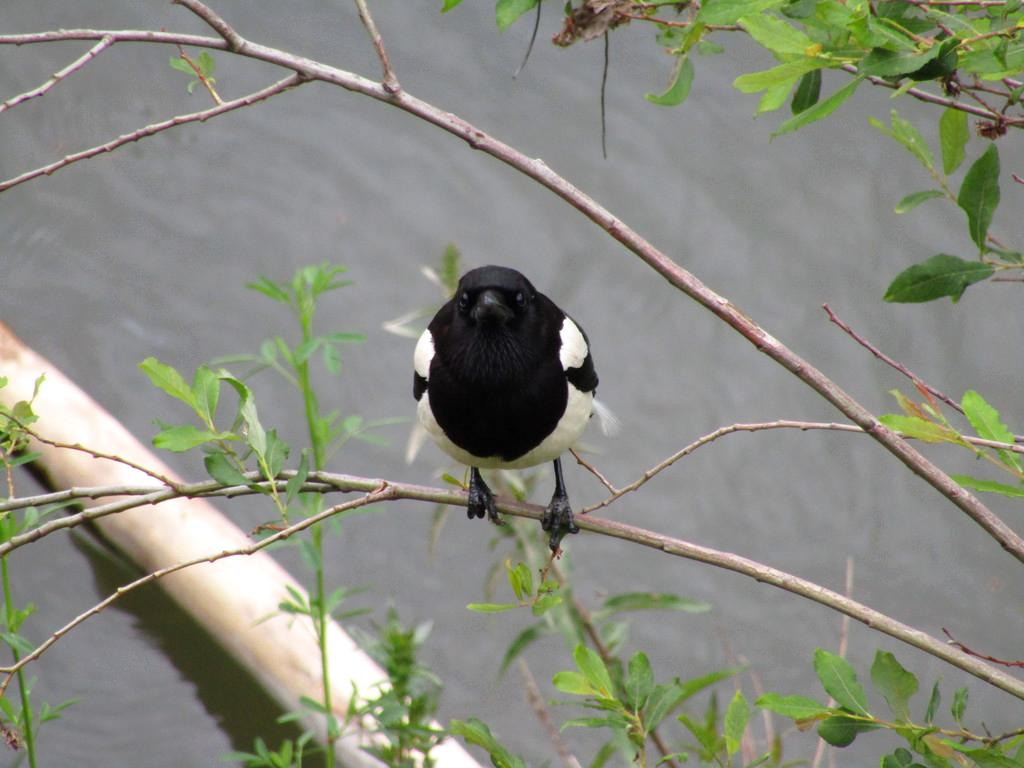PicaPica: (412, 263, 599, 554)
